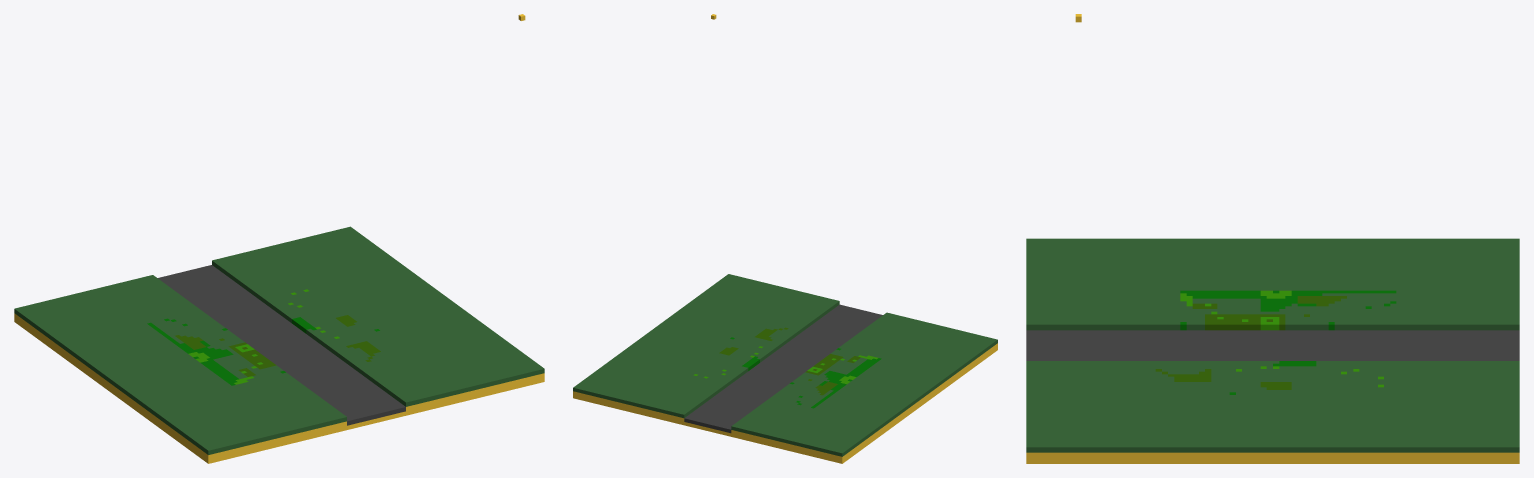
File: road1.obj
3 renders of one model, left to right at view 1: azimuth 30°, elevation 25°; view 2: azimuth 150°, elevation 25°; view 3: azimuth 270°, elevation 25°, orthographic. The views are drawn at different scales.
Parts seen in each view (by area): view 1: road1; view 2: road1; view 3: road1.
Part boxes in pixels (x1,y1,x2,y2): road1: (14, 14, 544, 463); road1: (573, 14, 997, 463); road1: (1026, 14, 1519, 463).
Bounding box in the file's own units: 80 × 80 × 80.
Materials: 1 (1 with a texture image).
